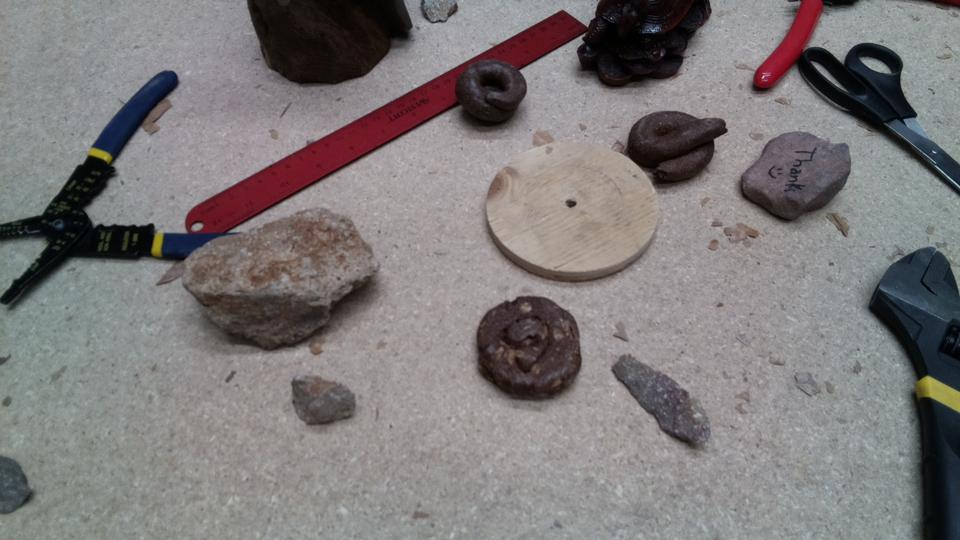poop: (473, 292, 584, 407), (625, 109, 728, 181), (455, 57, 530, 130)
